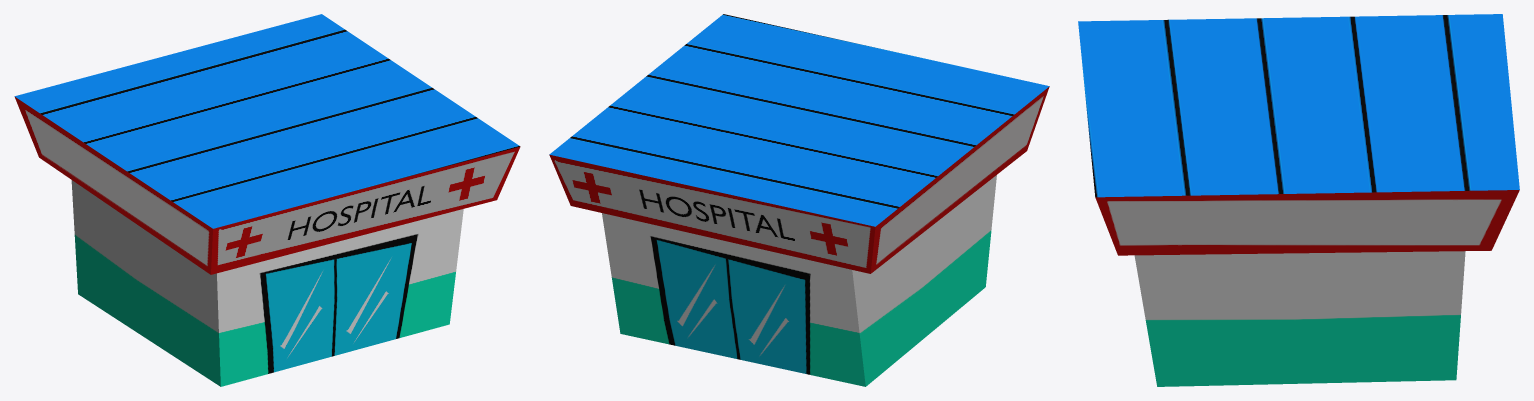
Rendered from Hospital.fbx.
3 renders of one model, left to right at view 1: azimuth 30°, elevation 25°; view 2: azimuth 150°, elevation 25°; view 3: azimuth 270°, elevation 25°, orthographic. The views are drawn at different scales.
Parts seen in each view (by area): view 1: TODOS:Hospital_Cine_Cafe:HCC1:pCube2, TODOS:Hospital_Cine_Cafe:HCC1:pCube1; view 2: TODOS:Hospital_Cine_Cafe:HCC1:pCube2, TODOS:Hospital_Cine_Cafe:HCC1:pCube1; view 3: TODOS:Hospital_Cine_Cafe:HCC1:pCube2, TODOS:Hospital_Cine_Cafe:HCC1:pCube1.
Boxes of the visible parts, box(x1,y1,x2,y2) form: TODOS:Hospital_Cine_Cafe:HCC1:pCube2: box(14, 14, 520, 274); TODOS:Hospital_Cine_Cafe:HCC1:pCube1: box(71, 180, 463, 386); TODOS:Hospital_Cine_Cafe:HCC1:pCube2: box(549, 14, 1049, 273); TODOS:Hospital_Cine_Cafe:HCC1:pCube1: box(602, 175, 996, 386); TODOS:Hospital_Cine_Cafe:HCC1:pCube2: box(1078, 14, 1519, 255); TODOS:Hospital_Cine_Cafe:HCC1:pCube1: box(1134, 251, 1465, 386).
Bounding box in the file's own units: 23.33 × 12.7 × 23.76.
